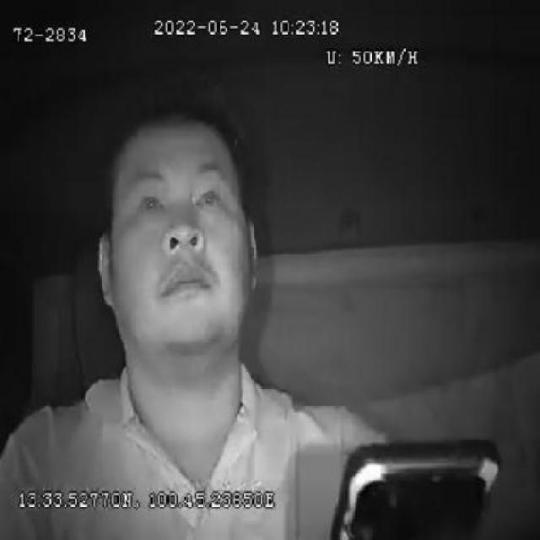phone: (330, 439, 499, 540)
